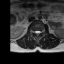CCS_normal: (36, 29, 38, 37)
LFS_normal: (40, 29, 42, 34)
LLS_normal: (38, 29, 40, 36)
RFS_normal: (33, 29, 35, 34)
RLS_normal: (35, 29, 36, 35)
